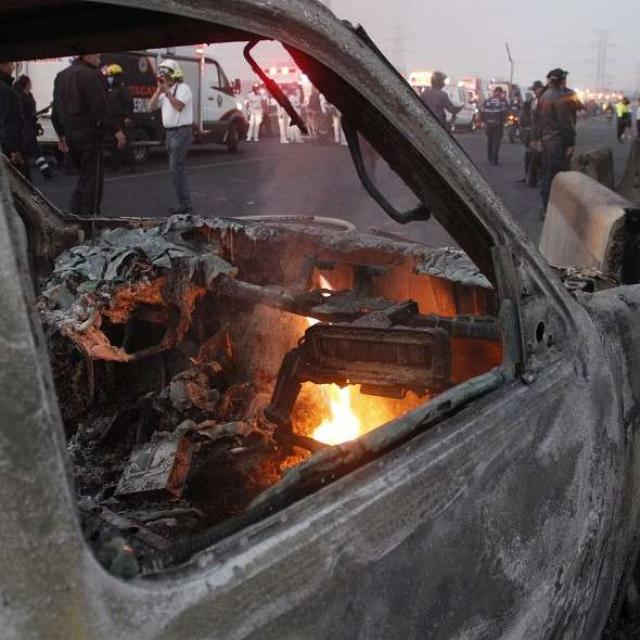Smoke: (163, 246, 427, 477)
